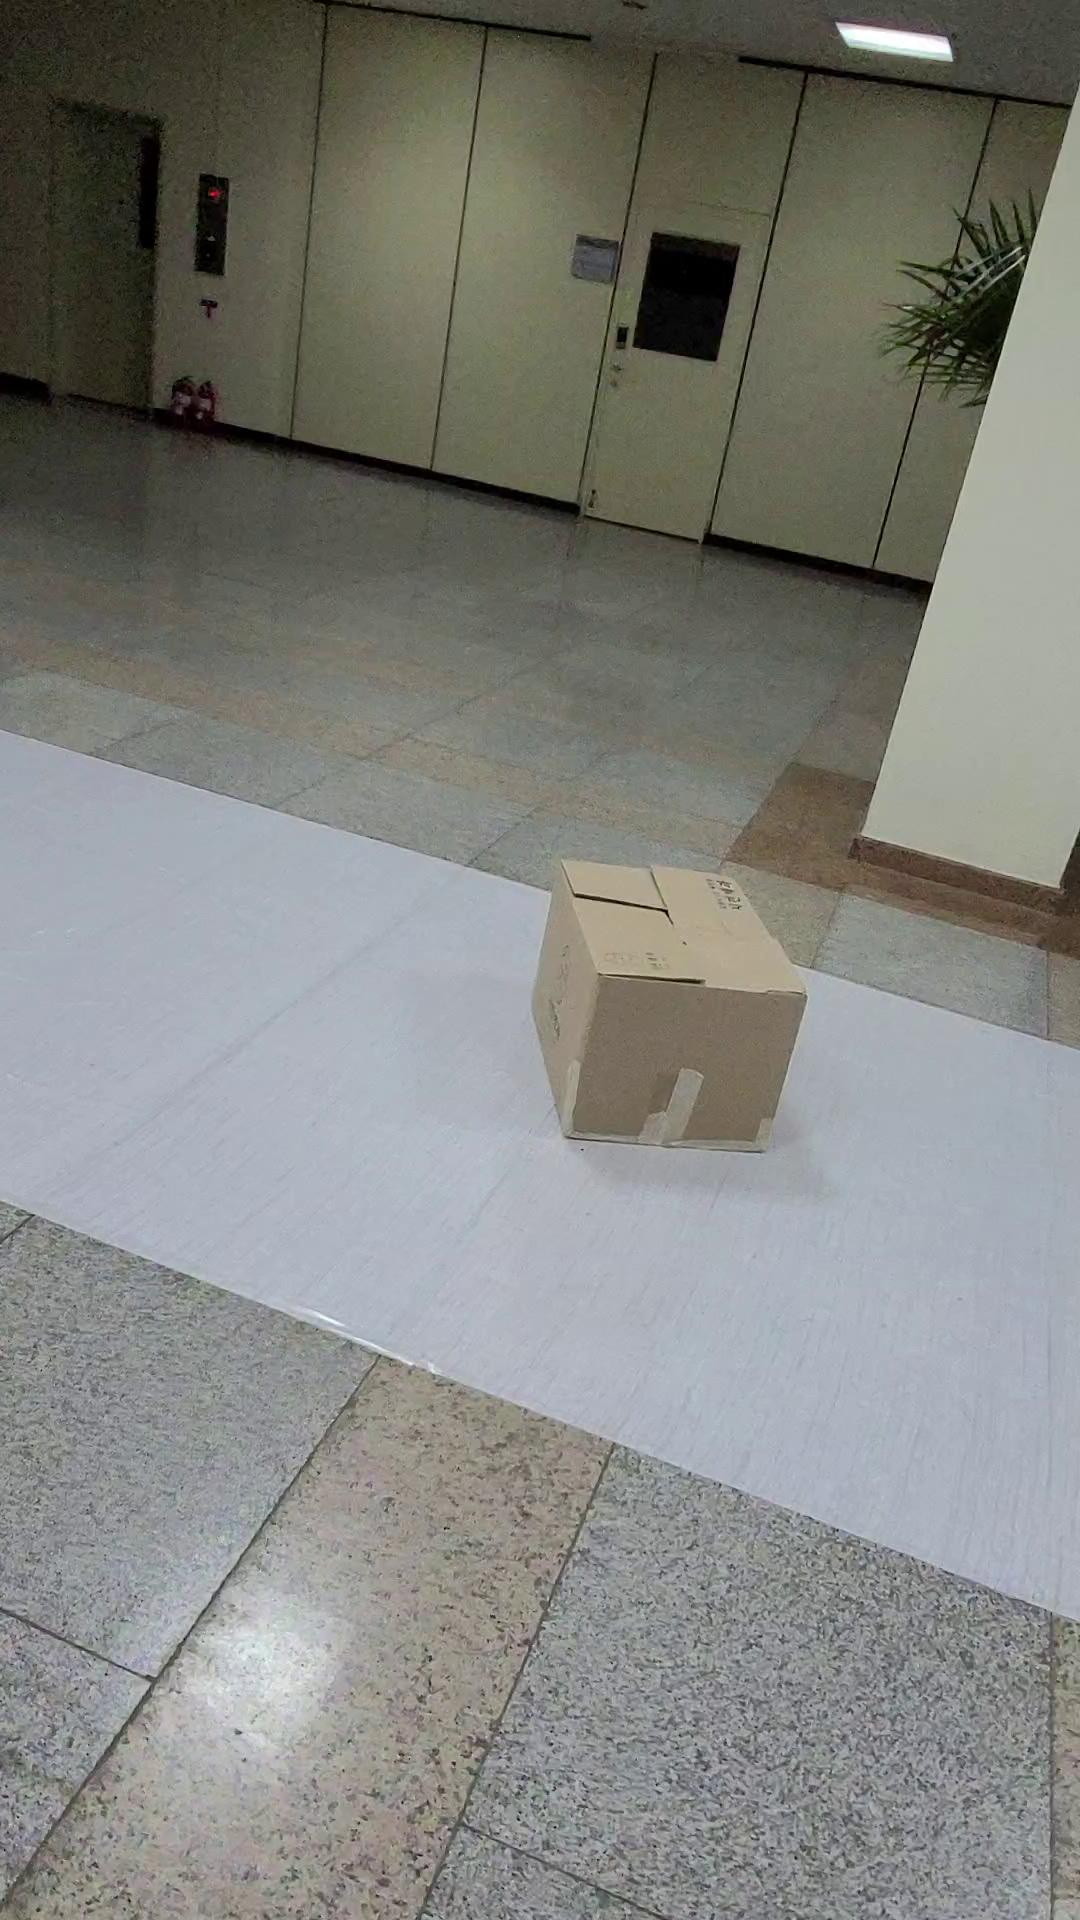Box: (498, 820, 833, 1180)
